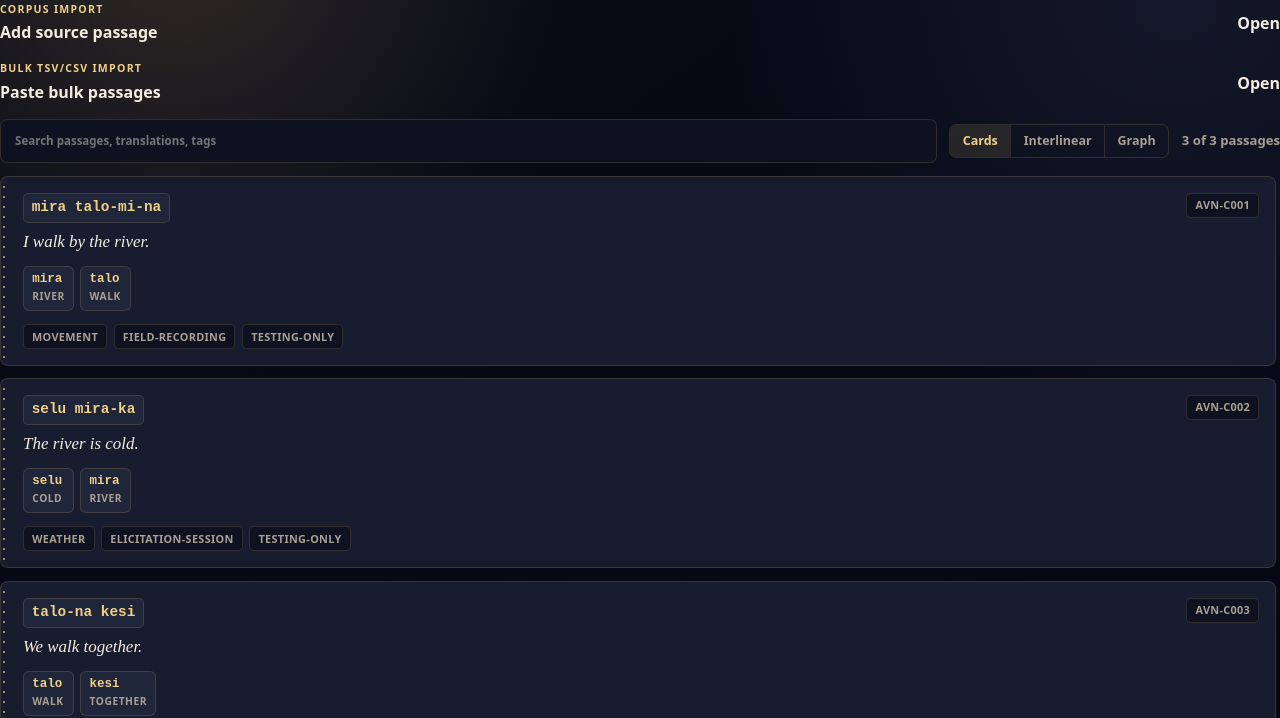
CorpusView concordance filter › shows a next-step empty state when search matches nothing
Type "zzzz-no-match" into the search field named "Search corpus" at (468, 141), box 0,119 -> 937,163
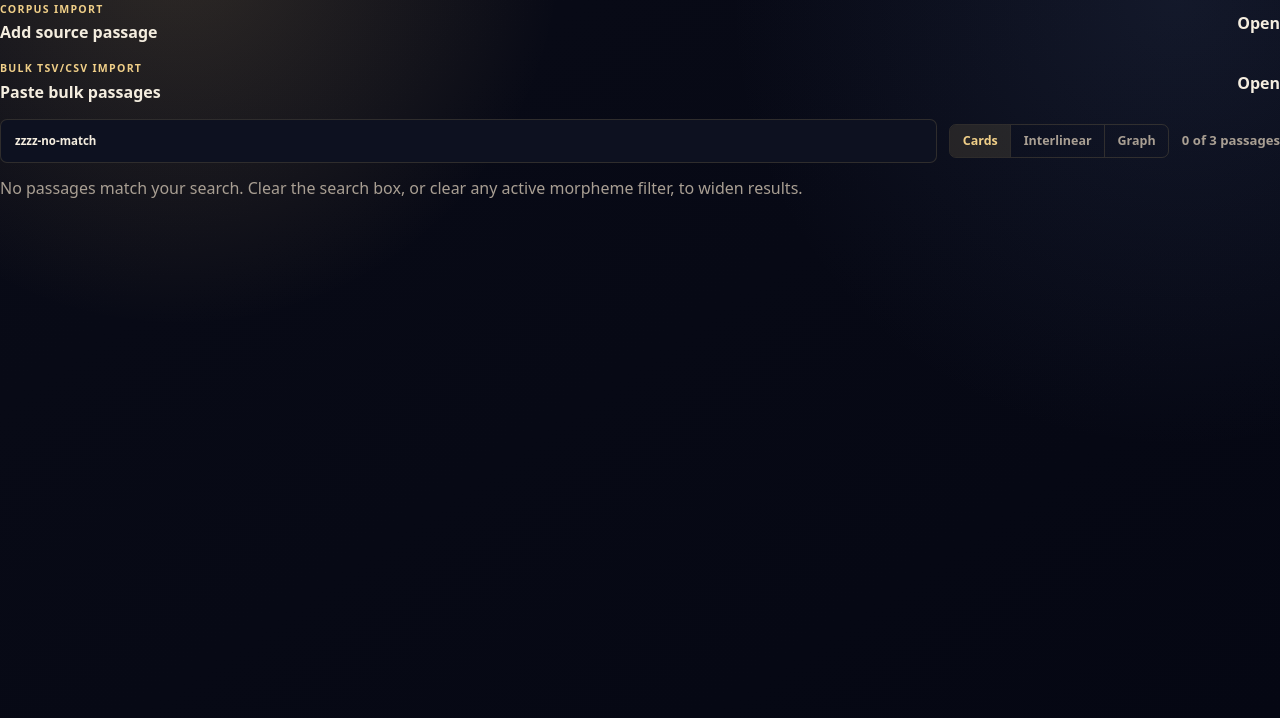
Expected: the message shows "No passages match your search. Clear the search box, or clear any active morpheme filter, to widen results.", 0,177 -> 803,199
